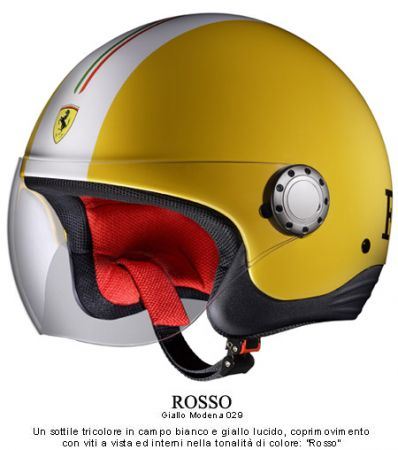helmet: (34, 24, 373, 325)
